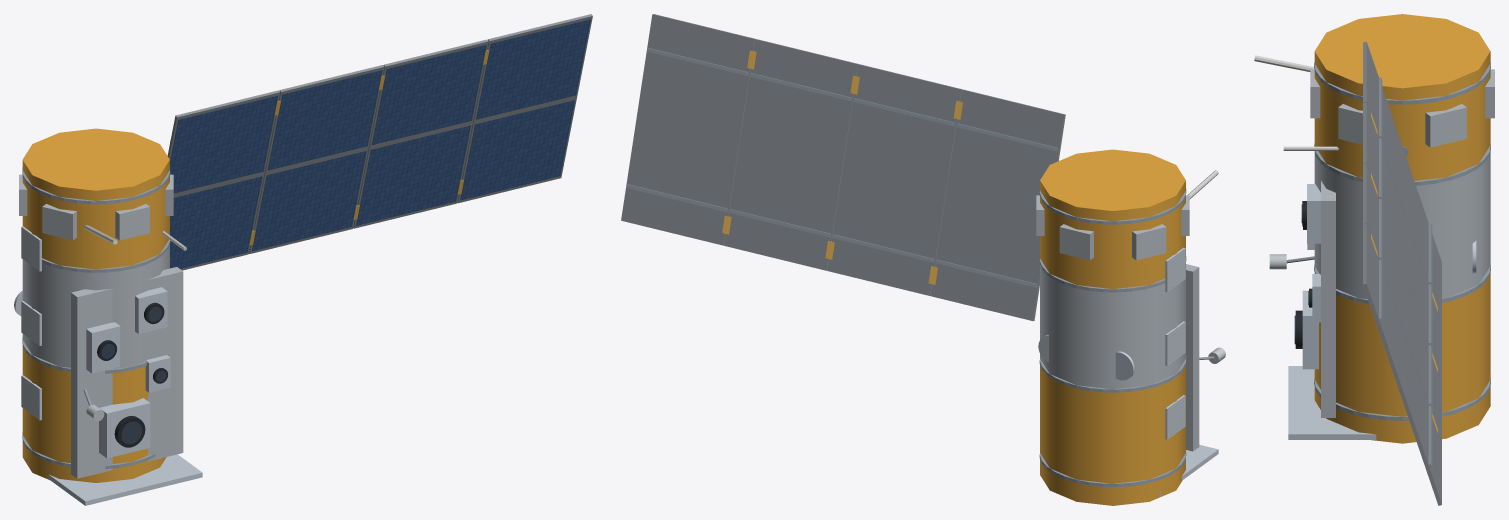
Rendered from noaa-n-prime.glb.
3 renders of one model, left to right at view 1: azimuth 30°, elevation 25°; view 2: azimuth 150°, elevation 25°; view 3: azimuth 270°, elevation 25°, orthographic. The views are drawn at different scales.
Parts seen in each view (by area): view 1: Solar cell strings (×8), Reaction control module, Instrument mounting tray, Solar panel substrate (×4), Instrument mounting platform, Equipment support module, Instrument sun shield, Thermal louver panel (×3), Aft equipment pack (×2), AVHRR scanning radiometer housing, Bus flange (×2), AMSU-A housing (+2 smaller); view 2: Solar panel substrate (×4), Equipment support module, Reaction control module, Instrument mounting platform, Instrument mounting tray, Bus flange (×3), Thermal louver panel (×3), Aft equipment pack (×2); view 3: Reaction control module, Solar panel substrate (×4), Equipment support module, Instrument mounting platform, Instrument mounting tray, Aft equipment pack (×4), Bus flange (×4), Instrument sun shield, Array rear rib (×4), AVHRR scanning radiometer housing, Infrared sounder housing, Microwave Humidity Sounder housing (+3 smaller).
Part boxes in pixels (x1=…): Solar cell strings (×8): x1=170, y1=19, x2=590, y2=268; Reaction control module: x1=22, y1=128, x2=169, y2=269; Instrument mounting tray: x1=71, y1=267, x2=183, y2=478; Solar panel substrate (×4): x1=167, y1=14, x2=592, y2=270; Instrument mounting platform: x1=22, y1=245, x2=169, y2=368; Equipment support module: x1=22, y1=347, x2=166, y2=482; Instrument sun shield: x1=25, y1=454, x2=202, y2=505; Thermal louver panel (×3): x1=21, y1=226, x2=41, y2=420; Aft equipment pack (×2): x1=42, y1=204, x2=149, y2=240; AVHRR scanning radiometer housing: x1=99, y1=398, x2=150, y2=458; Bus flange (×2): x1=22, y1=167, x2=170, y2=272; AMSU-A housing: x1=86, y1=322, x2=120, y2=373; Solar panel substrate (×4): x1=621, y1=14, x2=1065, y2=320; Equipment support module: x1=1040, y1=365, x2=1185, y2=505; Reaction control module: x1=1040, y1=149, x2=1185, y2=288; Instrument mounting platform: x1=1040, y1=265, x2=1185, y2=389; Instrument mounting tray: x1=1186, y1=264, x2=1199, y2=451; Bus flange (×3): x1=1039, y1=188, x2=1186, y2=486; Thermal louver panel (×3): x1=1165, y1=247, x2=1185, y2=439; Aft equipment pack (×2): x1=1059, y1=224, x2=1166, y2=260; Reaction control module: x1=1314, y1=14, x2=1490, y2=180; Solar panel substrate (×4): x1=1363, y1=41, x2=1441, y2=505; Equipment support module: x1=1314, y1=272, x2=1490, y2=443; Instrument mounting platform: x1=1314, y1=151, x2=1490, y2=299; Instrument mounting tray: x1=1321, y1=181, x2=1335, y2=417; Aft equipment pack (×4): x1=1310, y1=69, x2=1494, y2=147; Bus flange (×4): x1=1314, y1=62, x2=1490, y2=420; Instrument sun shield: x1=1288, y1=366, x2=1376, y2=439; Array rear rib (×4): x1=1428, y1=223, x2=1432, y2=468; AVHRR scanning radiometer housing: x1=1302, y1=290, x2=1318, y2=369; Infrared sounder housing: x1=1307, y1=184, x2=1320, y2=243; Microwave Humidity Sounder housing: x1=1312, y1=274, x2=1320, y2=322.
Size of the model in its own units: 8.04 by 4.75 by 2.57.
12 materials, 2 textured.
